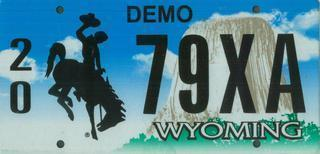placa de veiculo: (9, 1, 307, 145)
